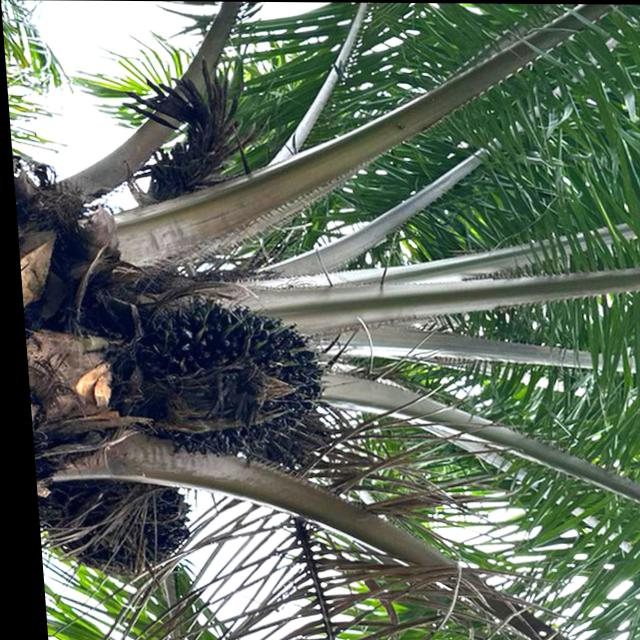unripe: (117, 290, 333, 465), (30, 473, 186, 579)
